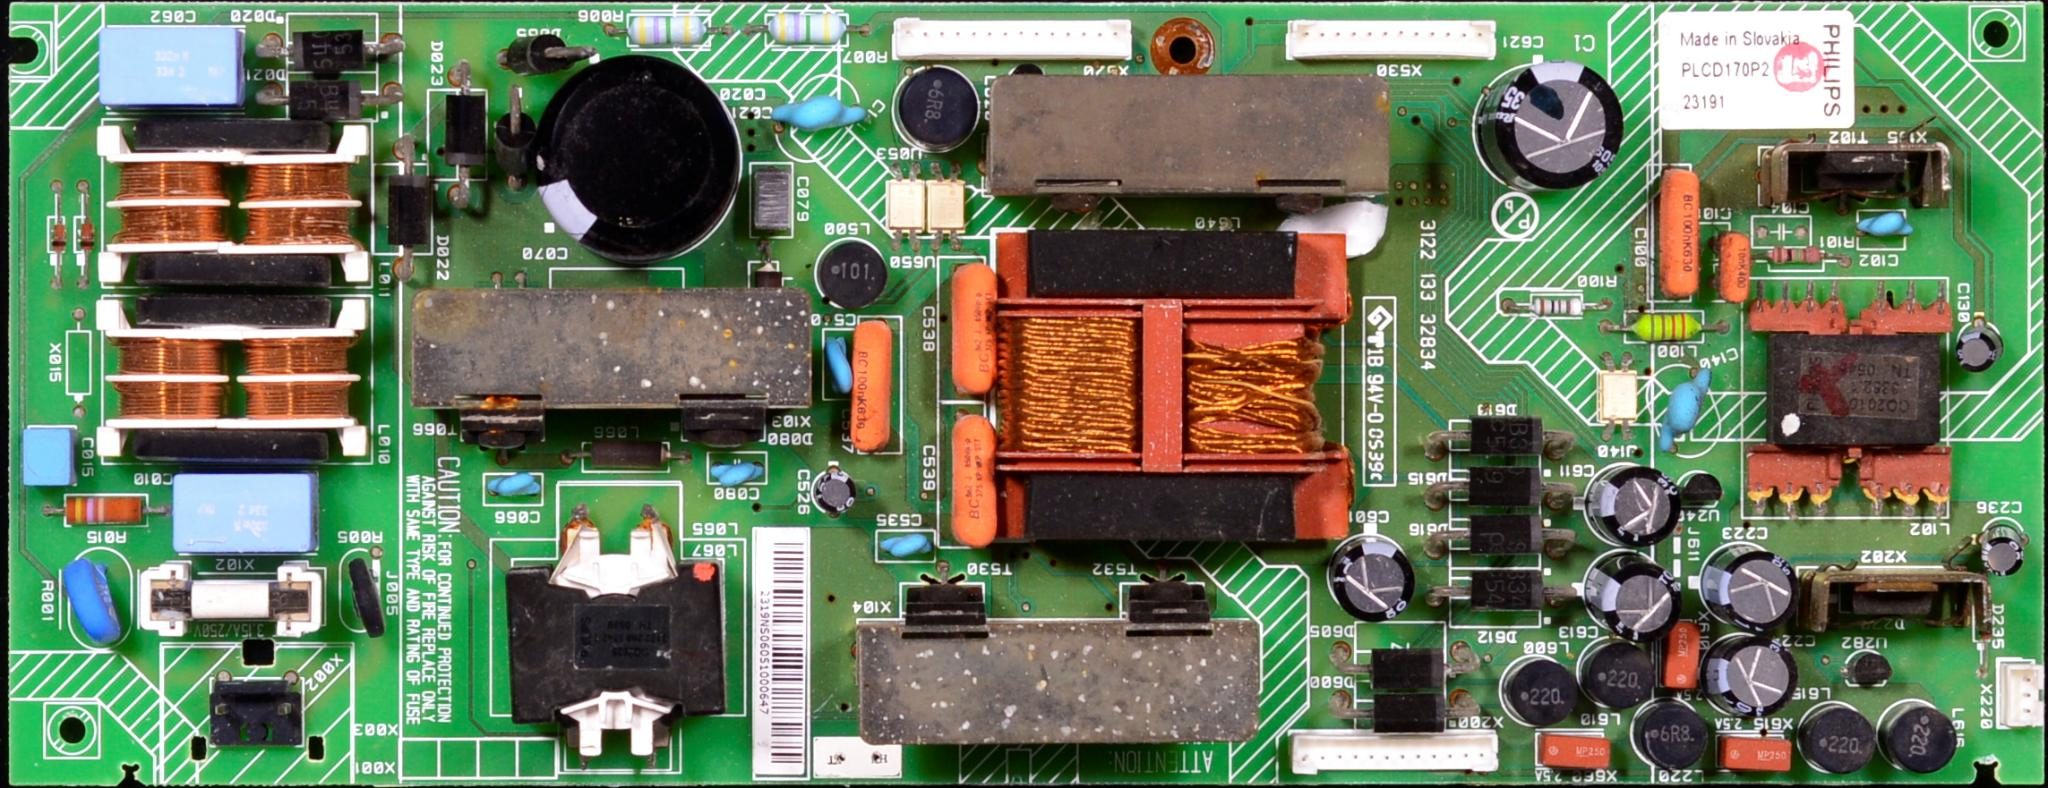Capacitor Jumper: (1498, 57, 1620, 196), (97, 24, 231, 101), (1340, 537, 1416, 634), (948, 414, 1003, 546), (1712, 629, 1796, 710), (1715, 550, 1801, 627), (953, 254, 997, 392), (1600, 468, 1677, 542), (1610, 566, 1678, 639), (775, 94, 863, 135), (1652, 375, 1703, 442), (752, 170, 794, 235), (26, 427, 68, 489), (703, 457, 773, 489), (1849, 205, 1911, 240), (824, 324, 853, 397), (822, 461, 856, 520), (490, 468, 545, 502), (1981, 533, 2021, 578), (880, 536, 933, 557), (1966, 331, 1991, 367)
Resistor Jumper: (65, 561, 123, 653), (760, 3, 859, 48), (67, 489, 148, 527), (630, 17, 711, 51), (1490, 294, 1587, 320)
